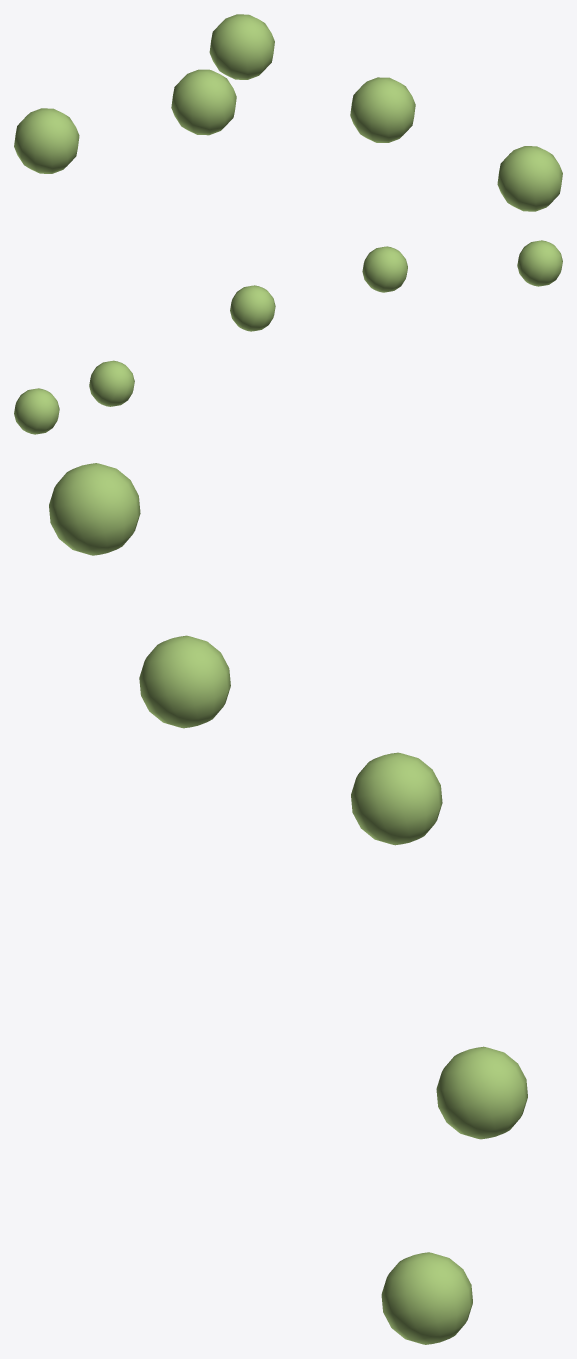
File: infraclavicular-nodes-l.glb
The picture shows the model from 3 angles, top to bottom: view 1: azimuth 30°, elevation 25°; view 2: azimuth 150°, elevation 25°; view 3: azimuth 270°, elevation 25°; orthographic projection. The views are drawn at different scales.
Parts seen in each view (by area): view 1: Infraclavicular nodes.l; view 2: Infraclavicular nodes.l; view 3: Infraclavicular nodes.l.
Boxes of the visible parts, <box> form: Infraclavicular nodes.l: <box>14,14,562,211</box>; Infraclavicular nodes.l: <box>14,240,562,434</box>; Infraclavicular nodes.l: <box>49,463,527,1344</box>.
Size of the model in its own units: 0.0297 by 0.0143 by 0.0134.
